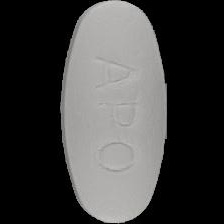0440-7128: (0, 0, 224, 224)
